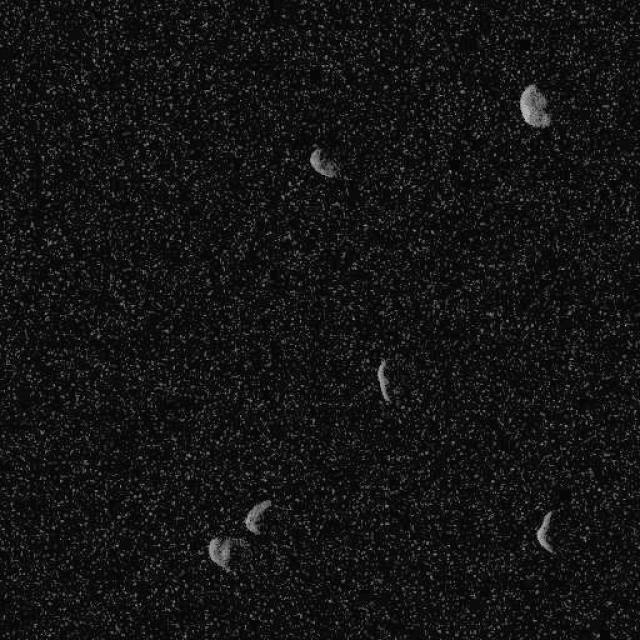D2: (519, 82, 551, 128), (242, 497, 272, 535), (308, 145, 340, 179), (534, 508, 556, 554), (206, 534, 232, 570), (376, 357, 392, 402)
